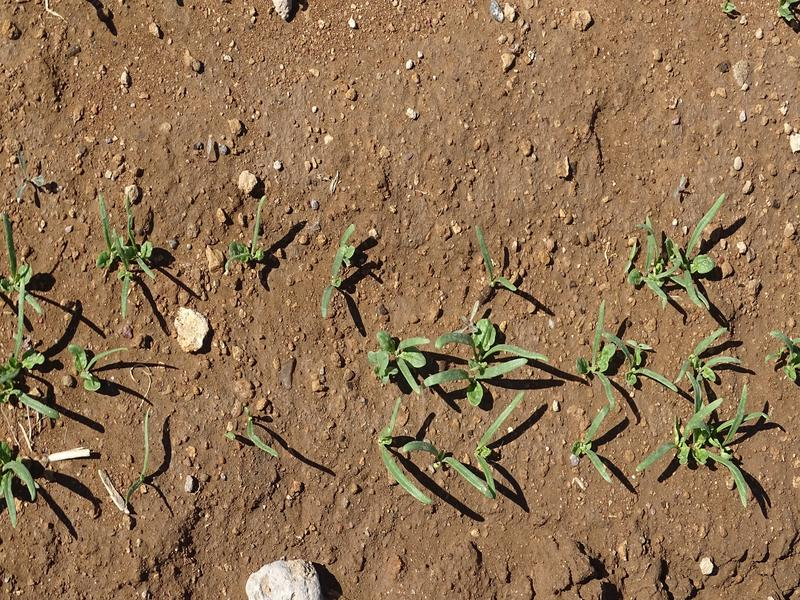Espinaca: (576, 211, 770, 508), (368, 304, 519, 511), (1, 216, 59, 528), (83, 199, 154, 315), (226, 198, 276, 268), (468, 231, 523, 294), (320, 228, 357, 313), (74, 342, 128, 391), (240, 413, 280, 460)
